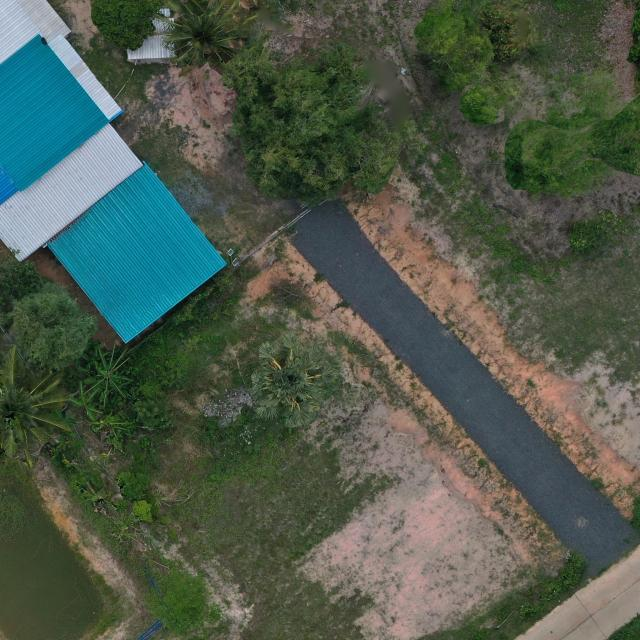Tree: (223, 41, 404, 208), (250, 330, 342, 429), (0, 344, 69, 466), (150, 0, 259, 76), (9, 281, 100, 368), (504, 116, 601, 196), (414, 2, 493, 83), (88, 0, 165, 52), (80, 341, 136, 403), (0, 255, 42, 326), (457, 83, 514, 125), (71, 382, 107, 421)
